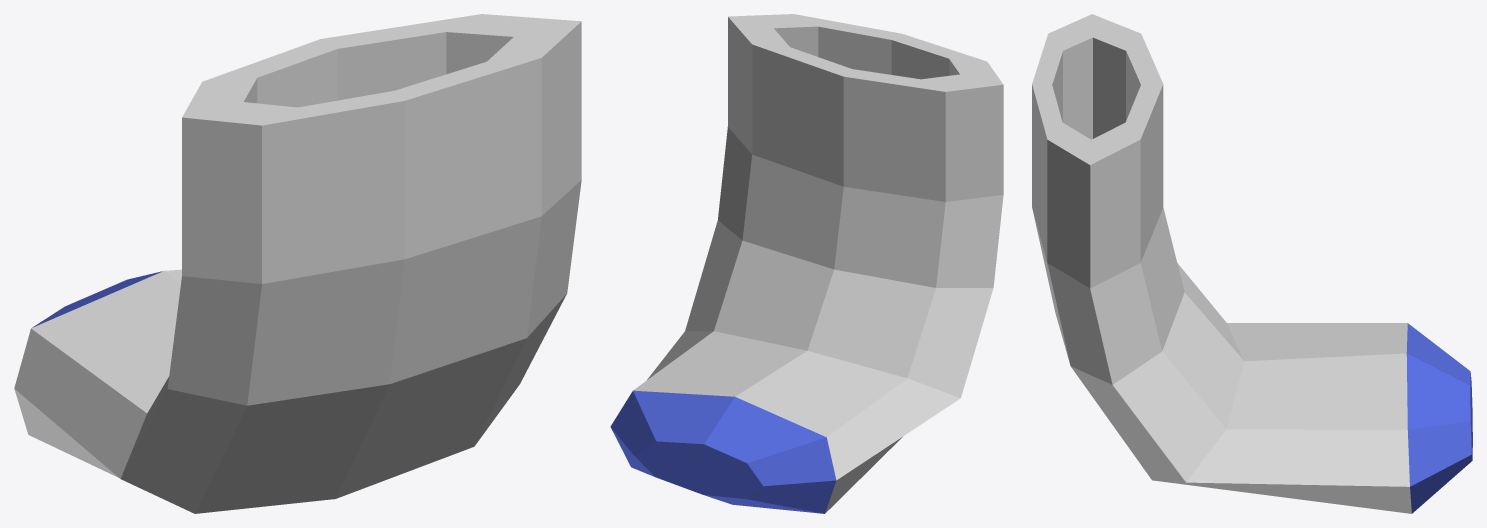
Rendered from SockTest.fbx.
3 renders of one model, left to right at view 1: azimuth 30°, elevation 25°; view 2: azimuth 150°, elevation 25°; view 3: azimuth 270°, elevation 25°, orthographic. The views are drawn at different scales.
Visible parts, largest first — view 1: Cylinder; view 2: Cylinder; view 3: Cylinder.
Part boxes in pixels (x1,y1,x2,y2): Cylinder: (14, 14, 581, 513); Cylinder: (610, 14, 1003, 513); Cylinder: (1032, 14, 1472, 513).
Bounding box in the file's own units: 526 × 630 × 648.
